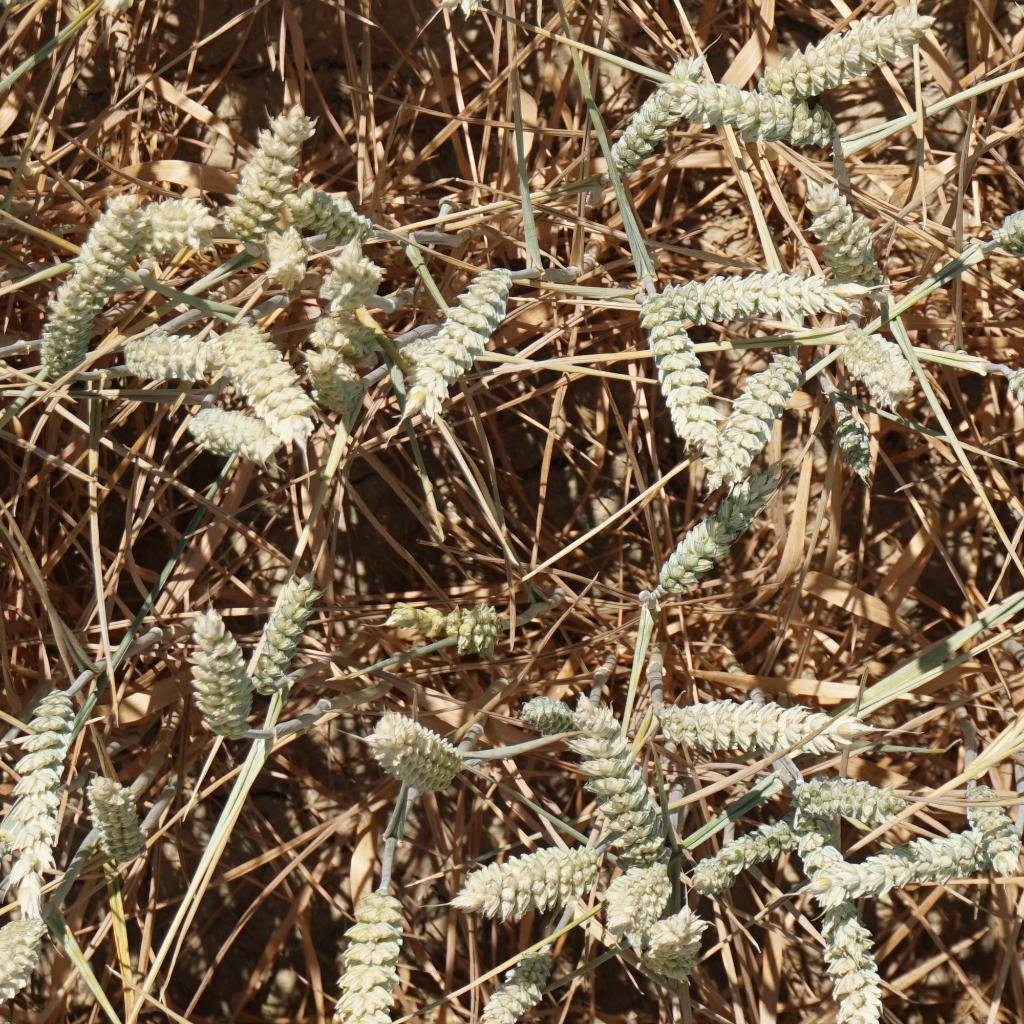0-0: (23, 173, 128, 374), (395, 253, 512, 427), (673, 242, 844, 340), (803, 864, 896, 1024), (683, 350, 789, 490), (572, 709, 673, 854), (632, 279, 714, 453), (4, 687, 74, 886), (667, 679, 852, 754), (799, 830, 974, 903), (665, 67, 819, 145), (768, 17, 921, 92), (323, 889, 401, 1024), (218, 309, 305, 429), (799, 173, 884, 291), (653, 488, 748, 590), (362, 705, 464, 799), (466, 838, 581, 917), (689, 795, 785, 889), (256, 581, 323, 707), (234, 94, 299, 222), (188, 600, 251, 732), (608, 58, 683, 157), (838, 323, 919, 413), (128, 305, 220, 381), (795, 763, 900, 828), (183, 377, 265, 458), (486, 945, 566, 1024), (132, 185, 222, 253), (313, 301, 397, 368), (437, 590, 518, 659), (596, 852, 667, 927), (94, 765, 151, 858), (295, 173, 374, 240), (646, 900, 707, 982), (968, 783, 1024, 872), (518, 679, 592, 744), (361, 609, 472, 652), (321, 248, 386, 318), (305, 328, 352, 411), (817, 395, 866, 474), (265, 221, 314, 298), (0, 925, 43, 1008), (1002, 358, 1024, 488), (0, 822, 19, 919), (1000, 193, 1024, 242), (0, 0, 47, 17)
